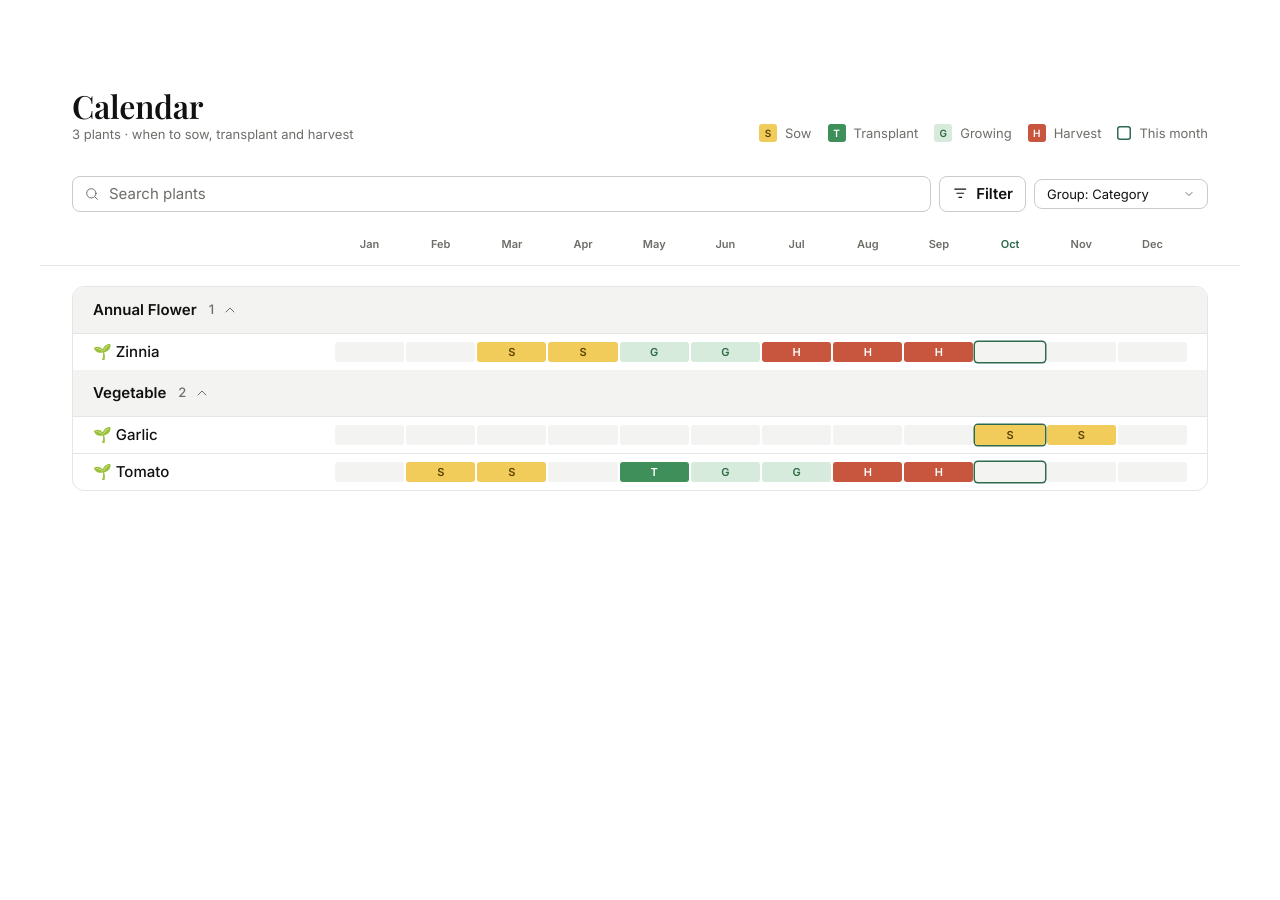
Calendar › filters to what can be sown in a month
This screenshot has width=1280, height=900.
Click the button "Filter": (982, 194) [939,176,1026,212]
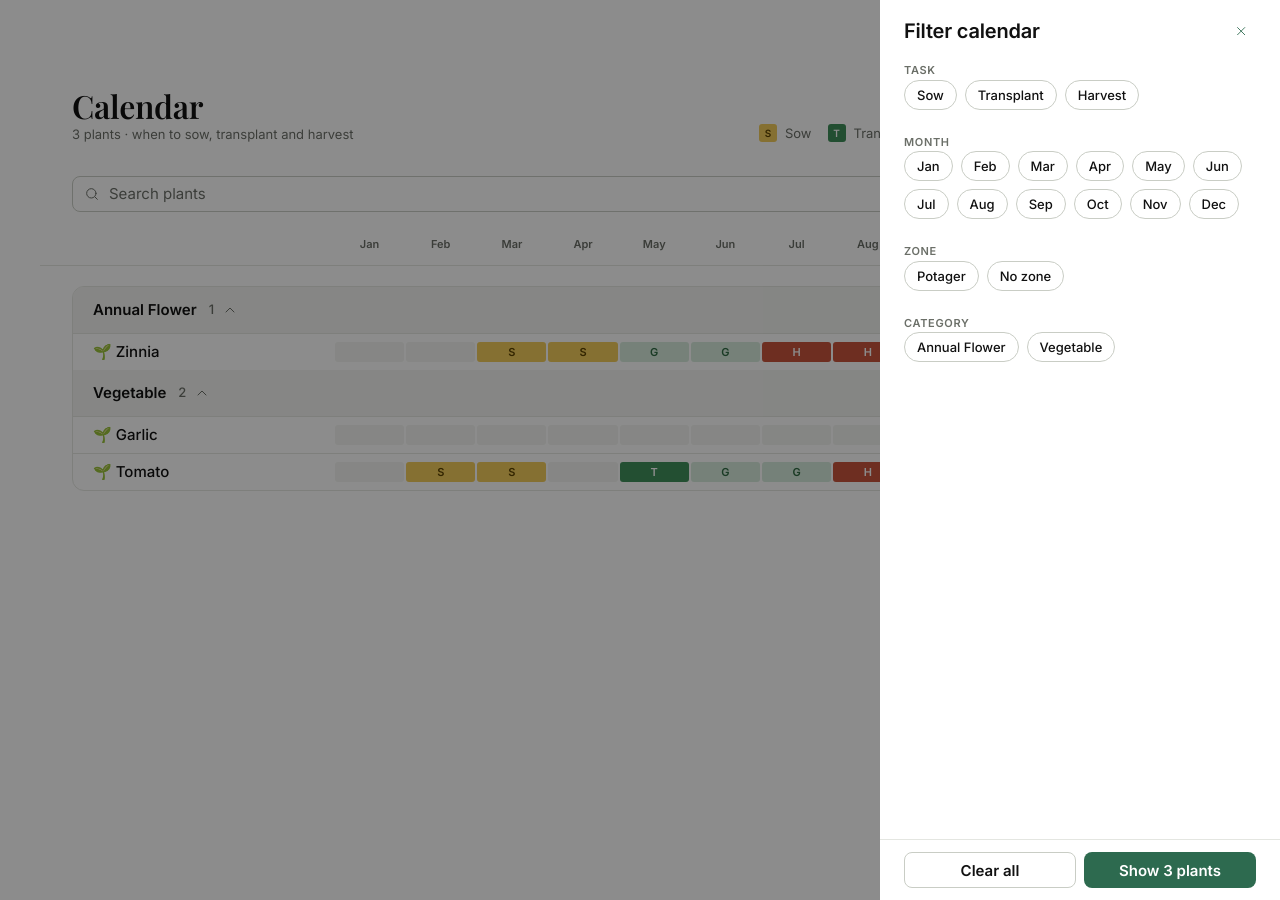
Click the button "Sow": (930, 95) [904,80,957,110]
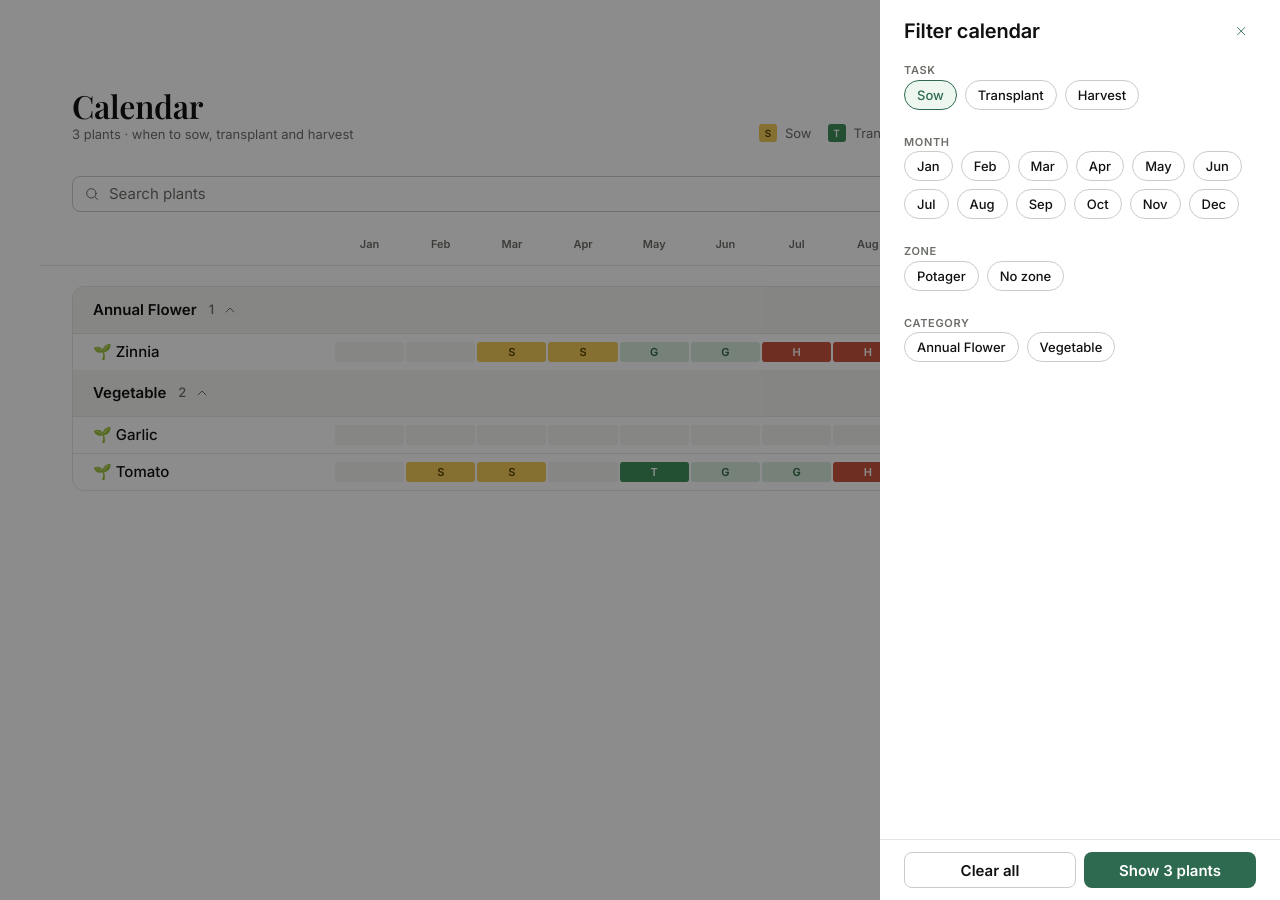
Click the button "Oct": (1098, 204) [1074,189,1122,219]
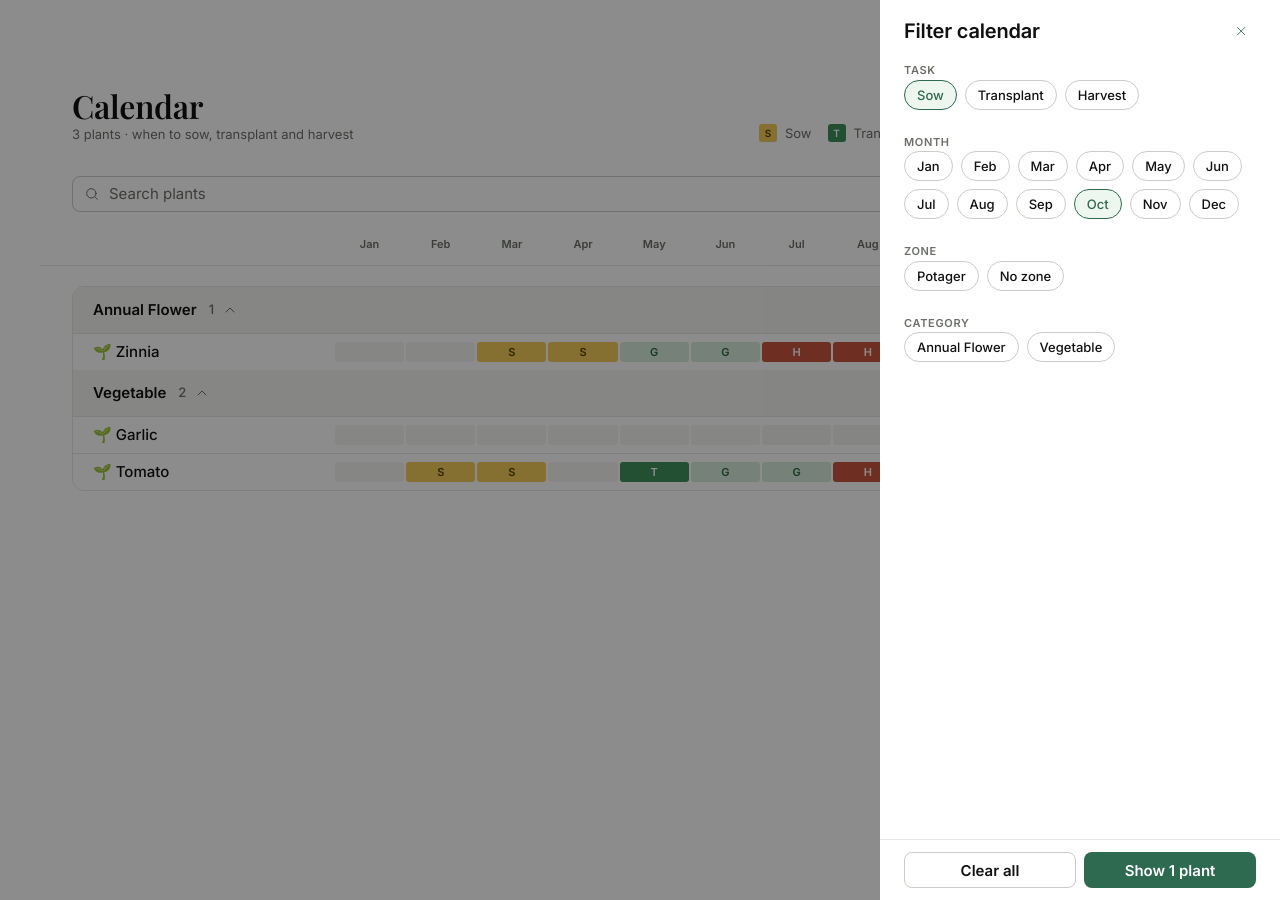
Click the button "Show 1 plant": (1170, 870) [1084,852,1256,888]
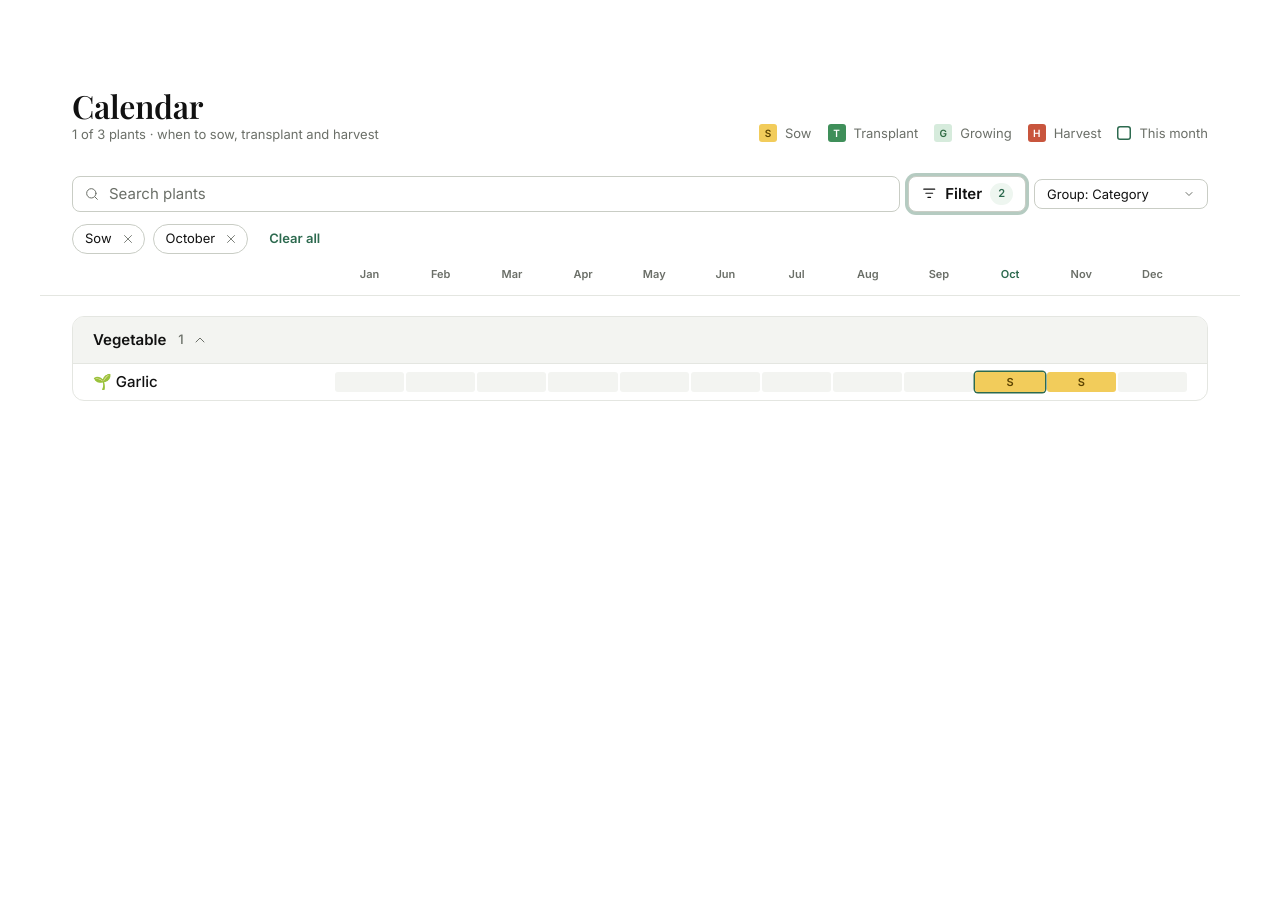
expect the link "🌱 Garlic" is shown: met, box [93,372,158,392]
expect the link "Tomato" is gone: met
expect the button named "Remove October" is shown: met, box [219,227,243,251]
